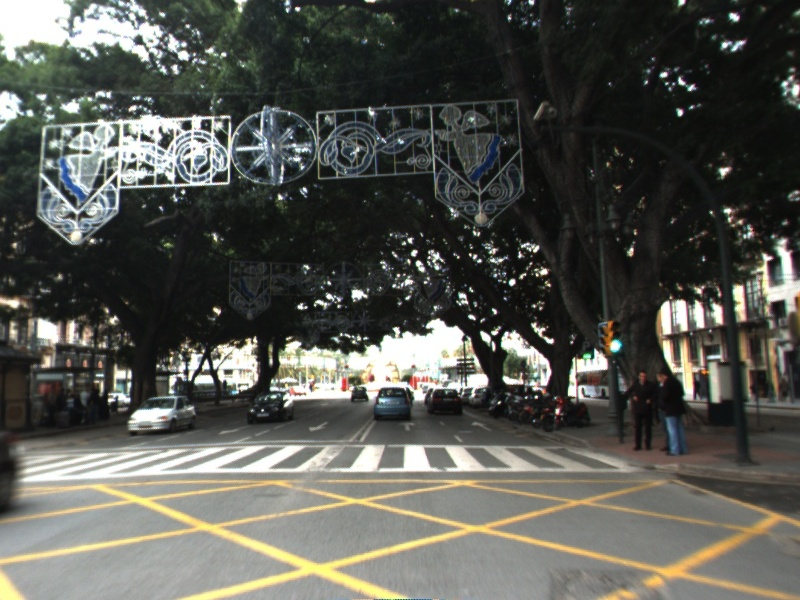STRAIGHT: (469, 419, 494, 434), (396, 420, 418, 433)
